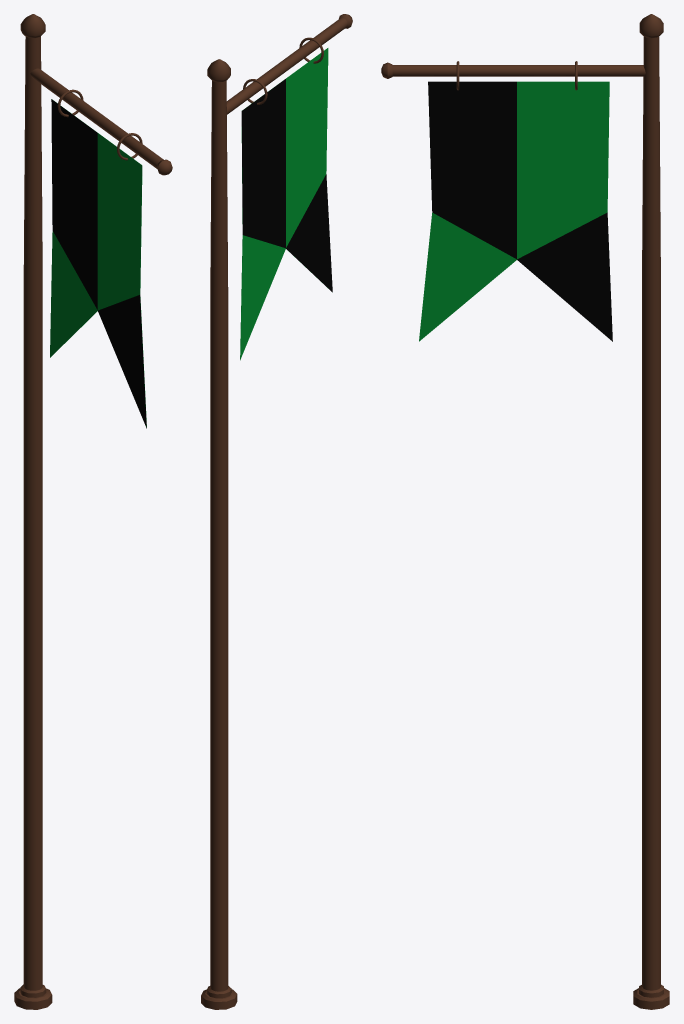
File: Flag_green_black.obj
3 views of the same model, side by side, from view 1: azimuth 30°, elevation 25°; view 2: azimuth 150°, elevation 25°; view 3: azimuth 270°, elevation 25° (orthographic). The views are drawn at different scales.
Parts seen in each view (by area): view 1: Tube001, Box004, Box003, Box002, Tube002, ChamferCyl002, ChamferCyl003; view 2: Tube001, Box004, Box003, Box002, Tube002, ChamferCyl002, ChamferCyl003; view 3: Box004, Tube001, Box002, Box001, Tube002.
Part boxes in pixels (bbox=[...]): Tube001: bbox=[23, 36, 42, 990]; Box004: bbox=[51, 99, 146, 428]; Box003: bbox=[50, 102, 142, 357]; Box002: bbox=[50, 176, 142, 357]; Tube002: bbox=[30, 68, 163, 168]; ChamferCyl002: bbox=[14, 988, 52, 1009]; ChamferCyl003: bbox=[20, 14, 45, 37]; Tube001: bbox=[210, 80, 228, 991]; Box004: bbox=[241, 79, 332, 292]; Box003: bbox=[241, 48, 328, 247]; Box002: bbox=[240, 235, 285, 360]; Tube002: bbox=[226, 18, 347, 114]; ChamferCyl002: bbox=[201, 989, 237, 1009]; ChamferCyl003: bbox=[207, 59, 230, 82]; Box004: bbox=[428, 81, 612, 341]; Tube001: bbox=[642, 36, 660, 990]; Box002: bbox=[517, 81, 609, 259]; Box001: bbox=[419, 212, 516, 341]; Tube002: bbox=[392, 65, 645, 76].
Size of the model in its own units: 2.58 by 73.53 by 19.44.
